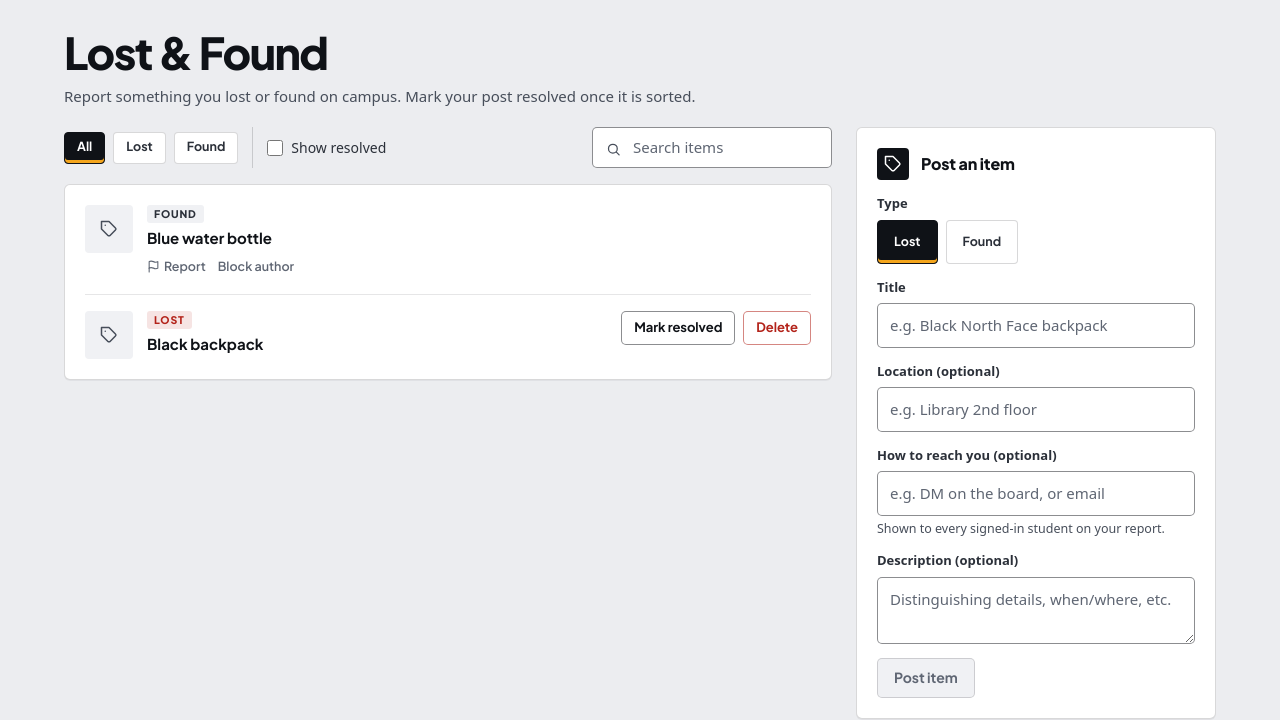
Test case: Lost & Found report and block › blocks the author, then reads the list again
expect the text "Blue water bottle" is shown: met, box [147,229,272,247]
Click the button "Block author": (256, 266) [218,255,294,278]
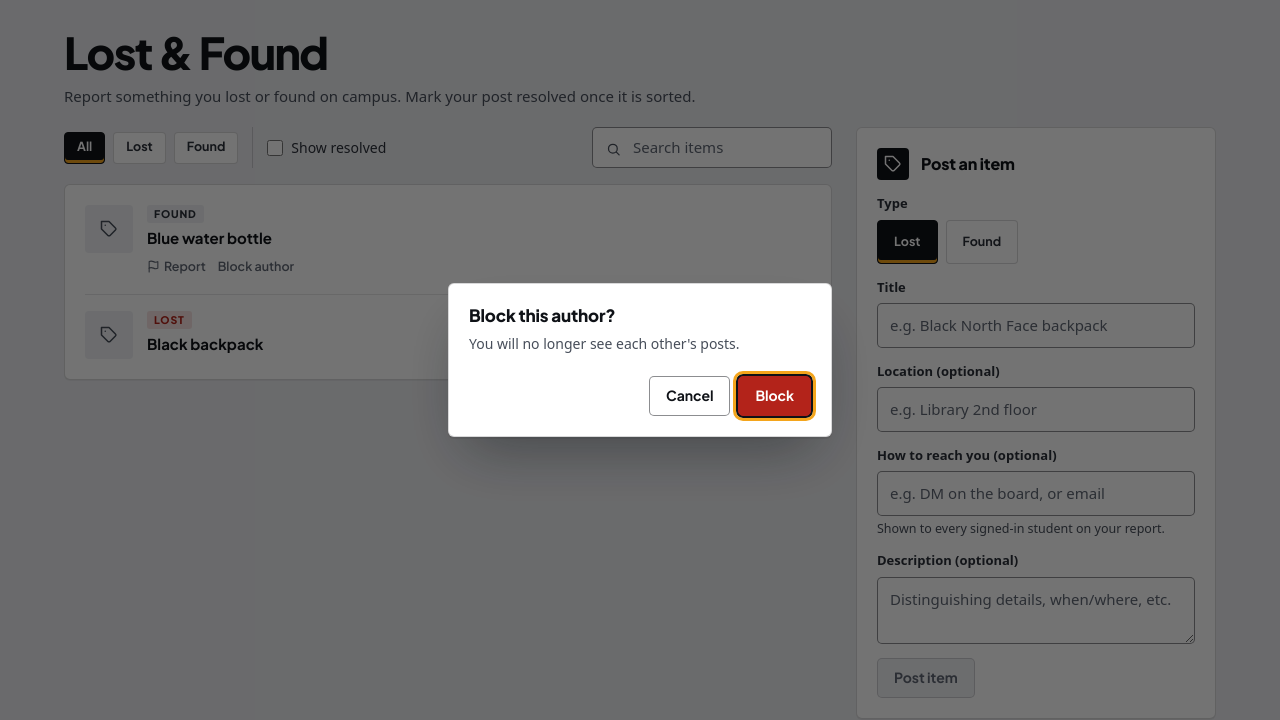
Click the button "Block": (775, 396) [738,376,811,416]
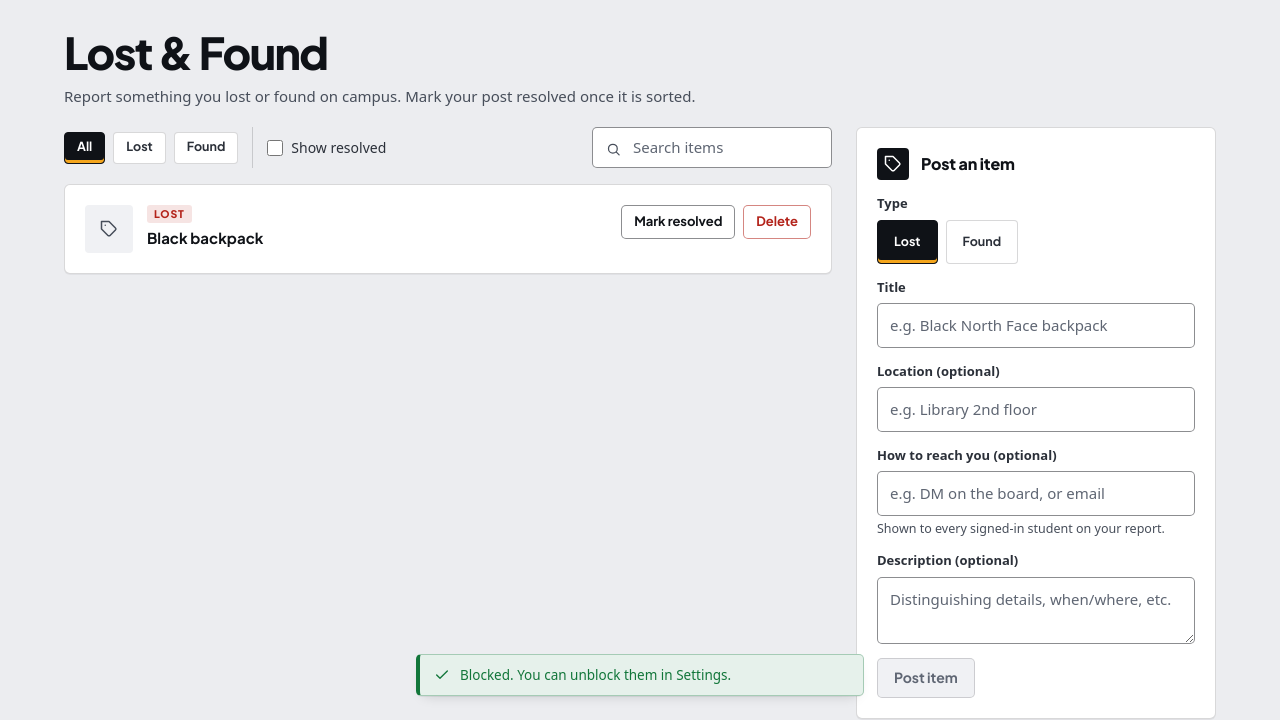
expect the text "Blue water bottle" is gone: met
